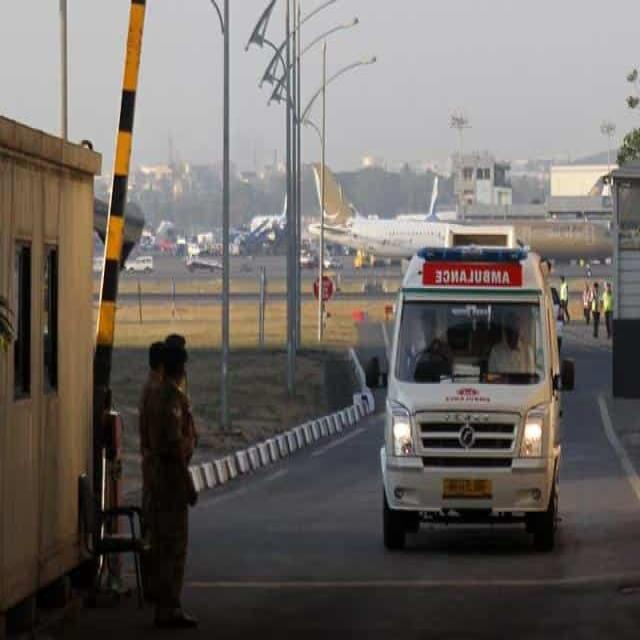emergency: (380, 247, 561, 550)
